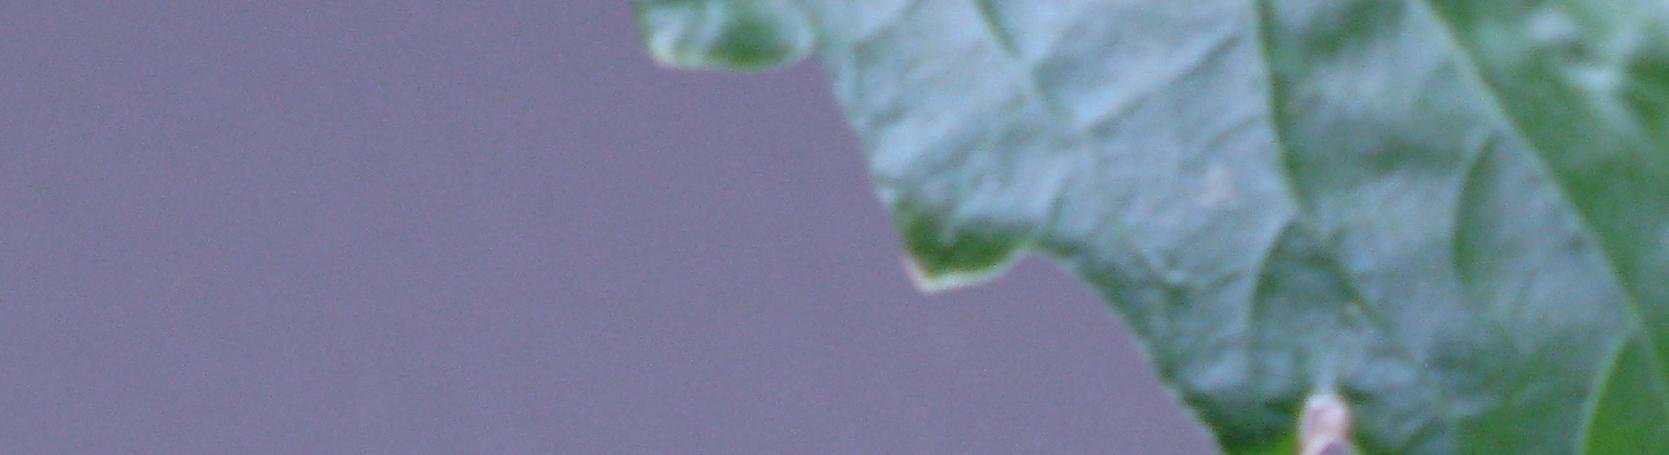Tomato leaf: (228, 0, 1669, 455)
